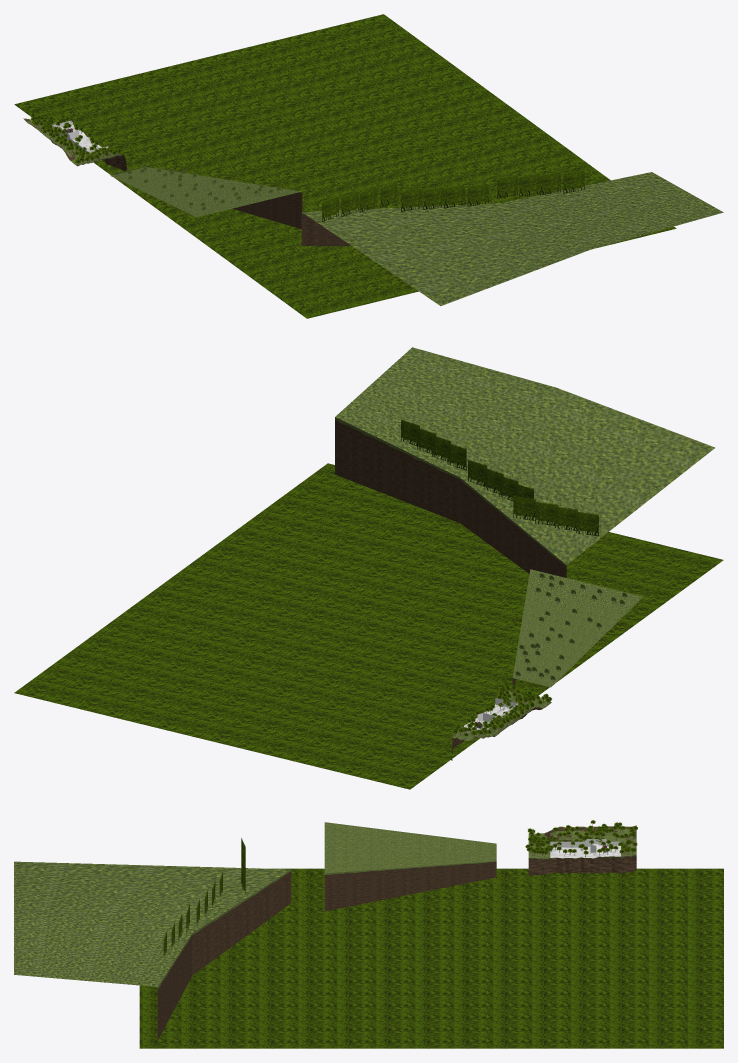
File: Map_Cliffside9.glb
The picture shows the model from 3 angles, top to bottom: view 1: azimuth 30°, elevation 25°; view 2: azimuth 150°, elevation 25°; view 3: azimuth 270°, elevation 25°; orthographic projection. The views are drawn at different scales.
Parts seen in each view (by area): view 1: Deep Leaves, Outside, .Forest-Plane, .Tree-Plane, Map Col; view 2: Deep Leaves, Outside, .Forest-Plane, .Tree-Plane; view 3: Deep Leaves, Outside, Cliff side, Map Col, .Forest-Plane.
Boxes of the visible parts, x1,y1,x2,y2 form: Deep Leaves: (14, 14, 676, 318); Outside: (23, 118, 723, 305); .Forest-Plane: (322, 170, 584, 221); .Tree-Plane: (114, 163, 281, 211); Map Col: (52, 120, 108, 155); Deep Leaves: (14, 463, 723, 789); Outside: (335, 347, 714, 741); .Forest-Plane: (401, 419, 598, 536); .Tree-Plane: (515, 573, 627, 681); Deep Leaves: (139, 868, 723, 1048); Outside: (14, 822, 636, 1040); Cliff side: (528, 855, 636, 875); Map Col: (550, 839, 620, 858); .Forest-Plane: (163, 838, 245, 958).
Bounding box in the file's own units: 585 × 105 × 884.
Materials: 31 (30 with a texture image).
